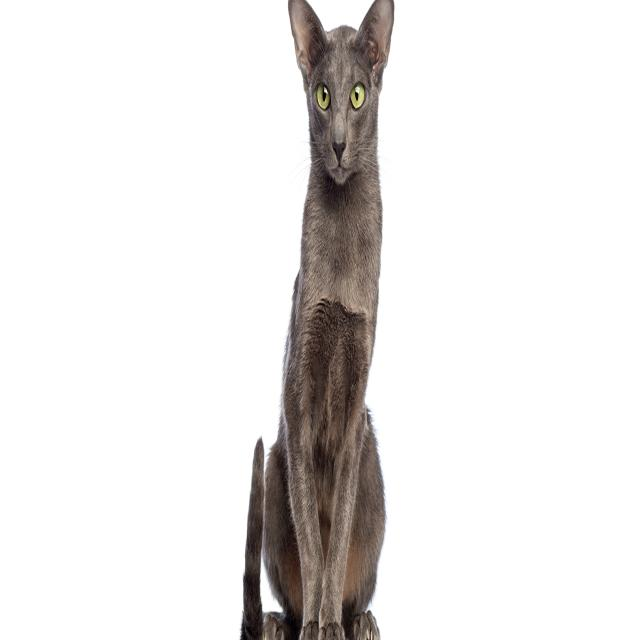Oriental: (236, 0, 397, 640)
